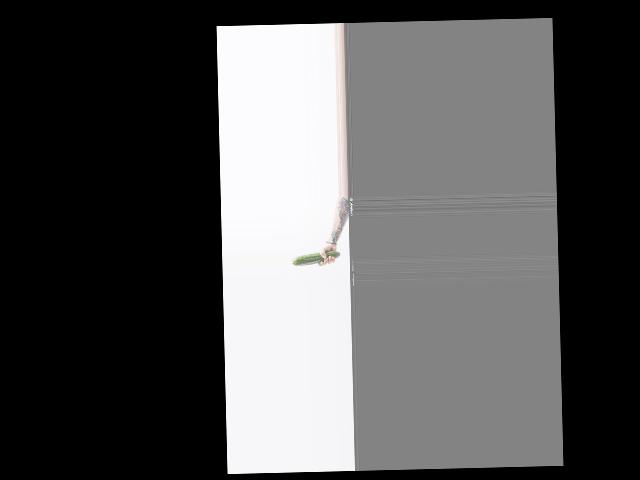cucumber: (291, 251, 340, 266)
